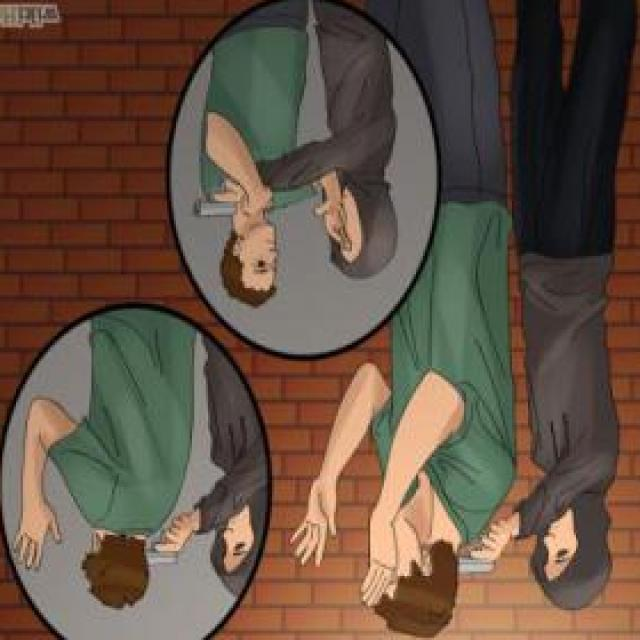pistol: (449, 516, 512, 588), (192, 162, 258, 229), (145, 511, 190, 574)
